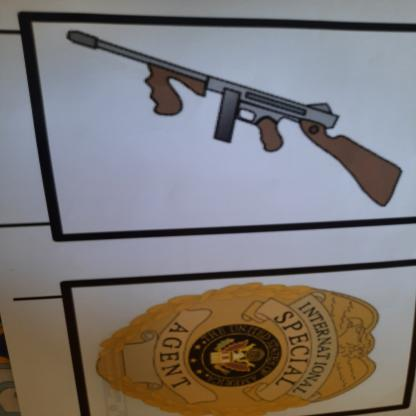Bootlegger: (46, 19, 416, 217)
G-man: (73, 271, 406, 416)
